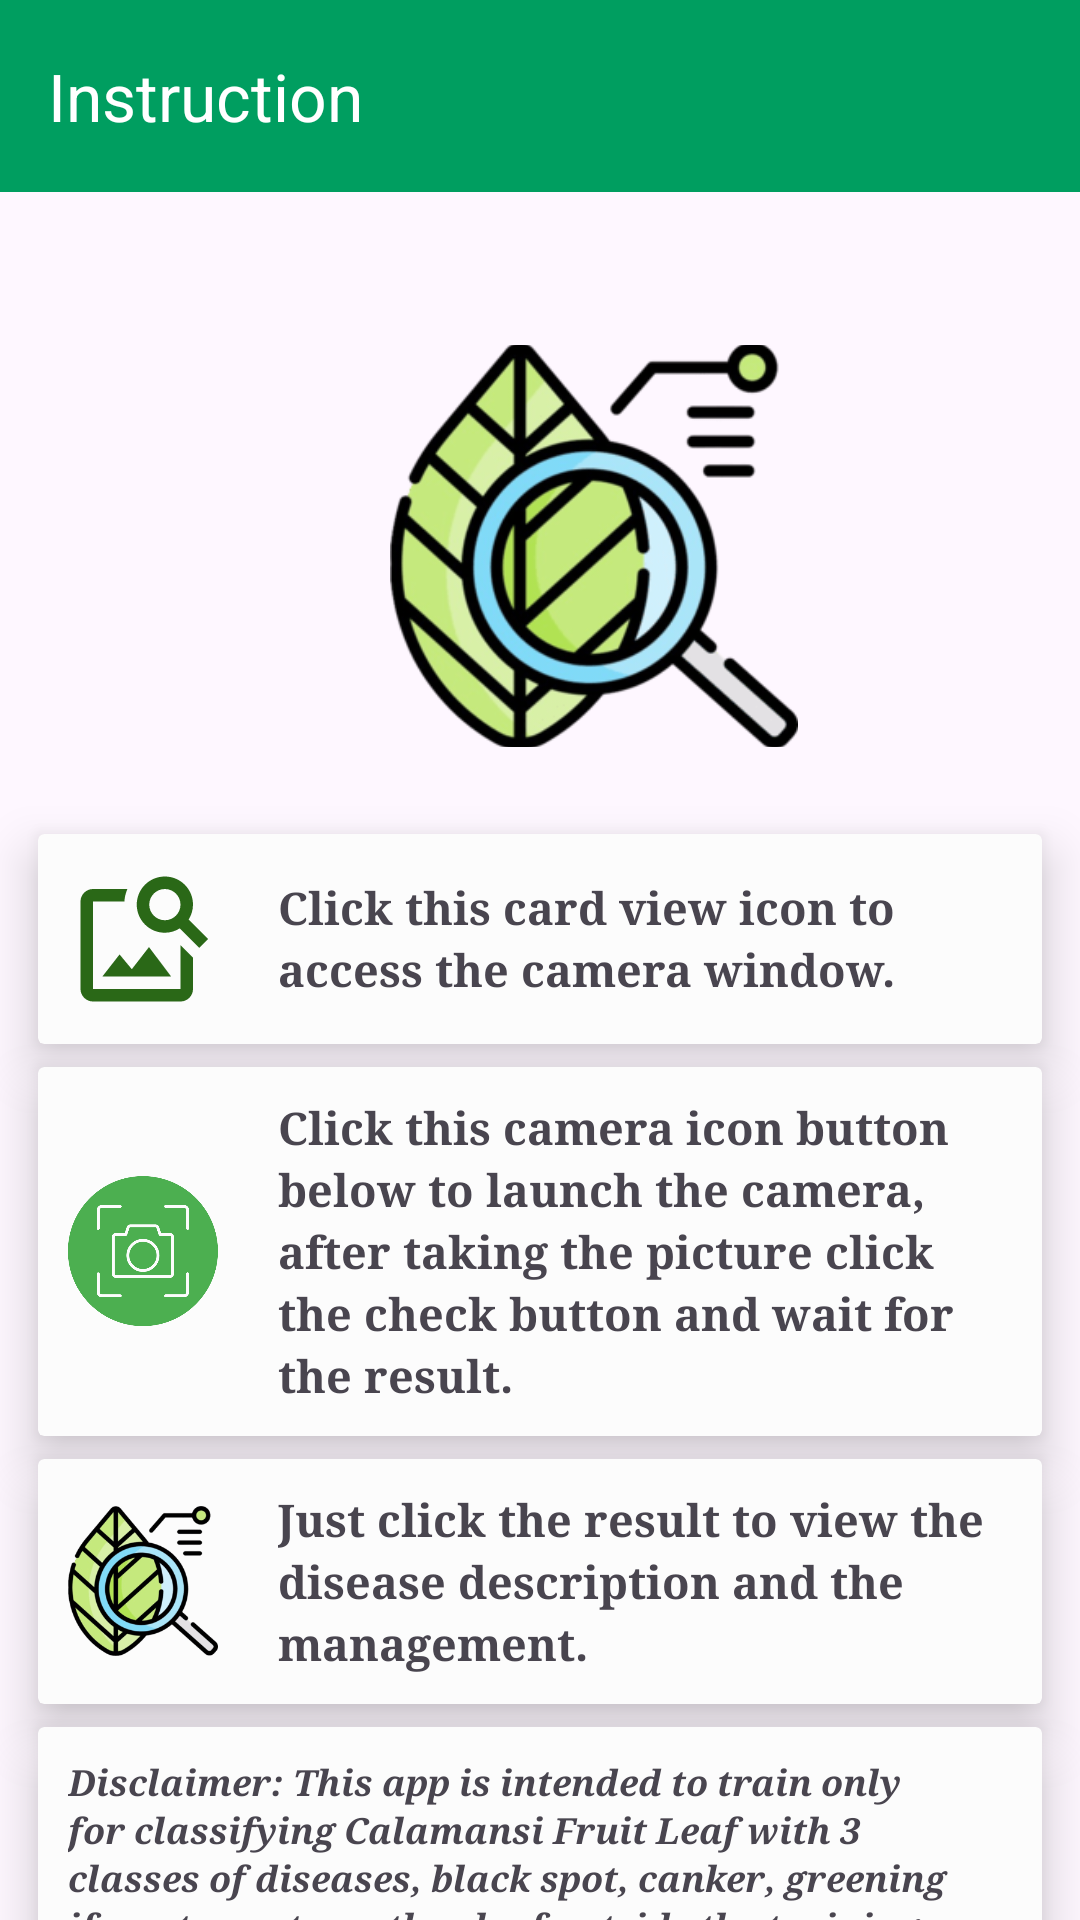

Where to tap for icons on this 1080px×1920px app screen, as point (x, y):
btncapture: point (143, 1251)
